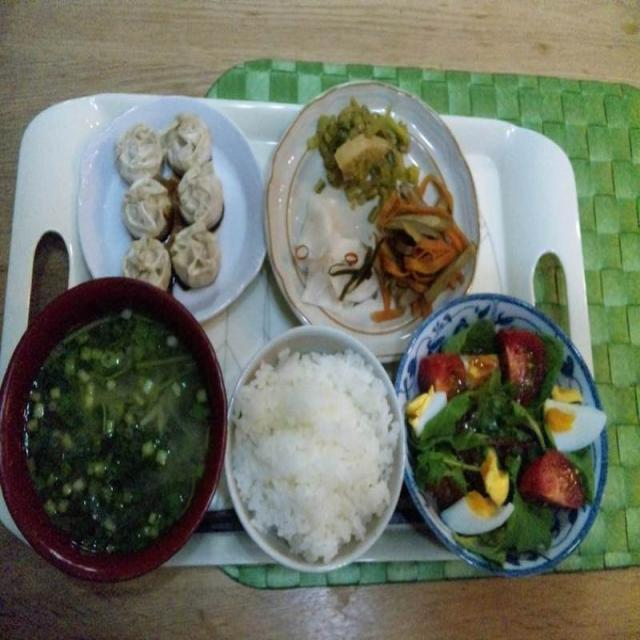Rice: (220, 324, 409, 582)
